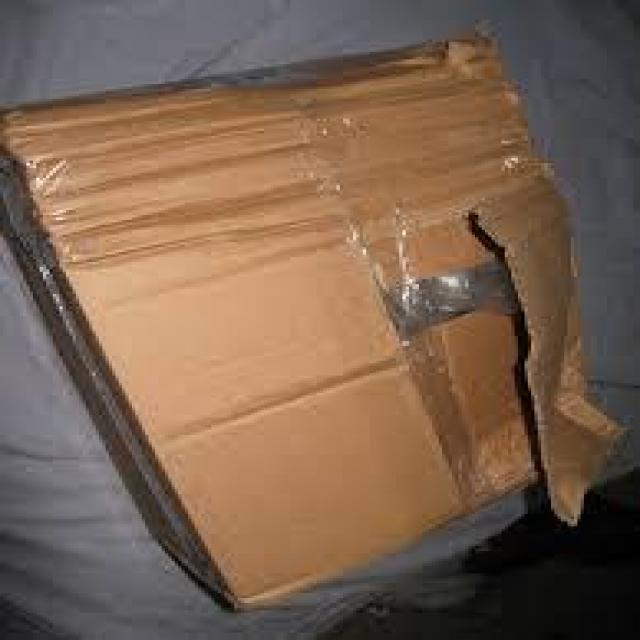damaged: (382, 210, 558, 489)
